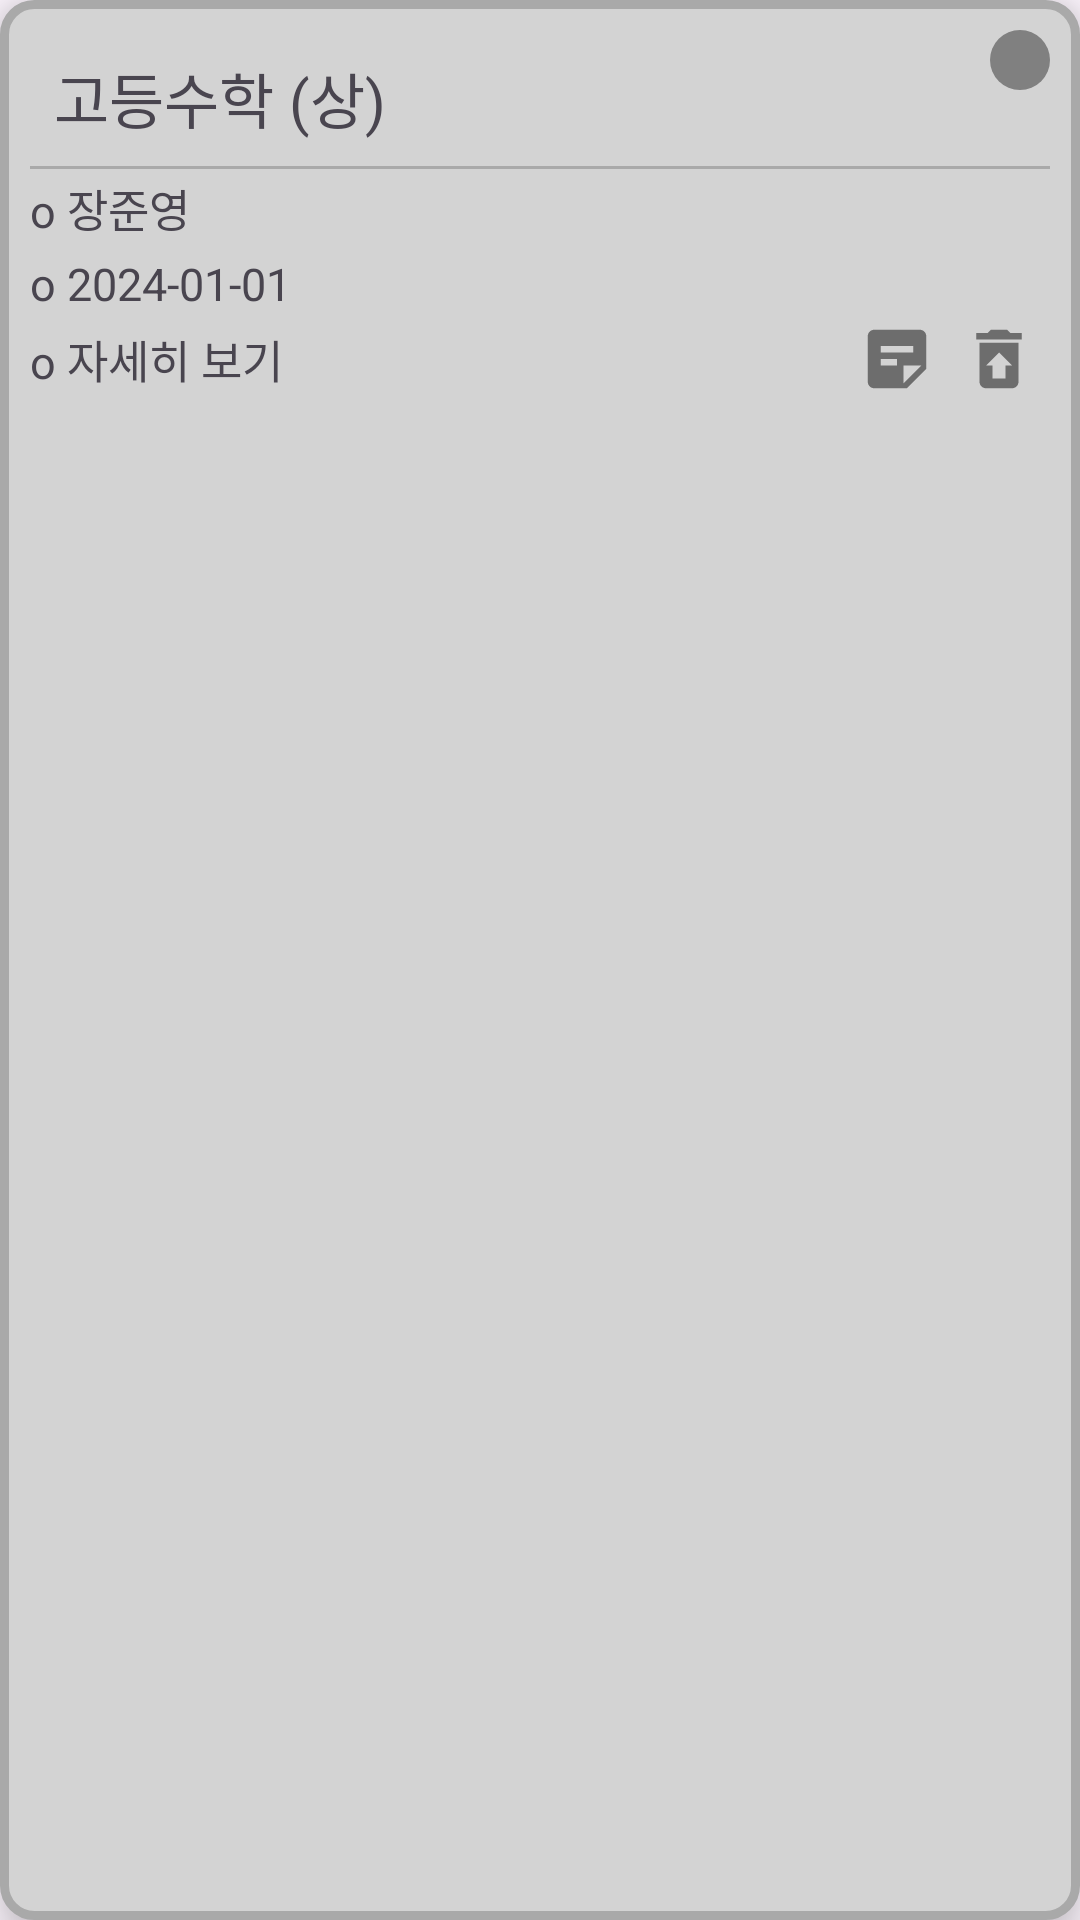

Named icons in this screenshot (1080 x 1920) and their centers, (x=x, y=y):
restore from trash: (x=999, y=359)
sticky note: (x=897, y=359)
